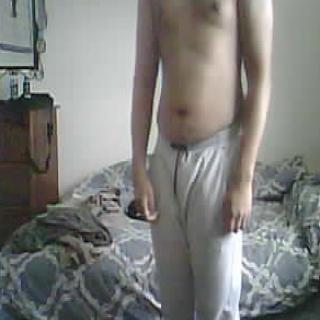White Sweatpants: (152, 130, 243, 320)
